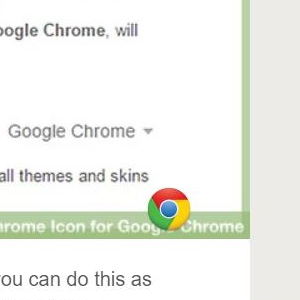chrome: (147, 187, 191, 232)
